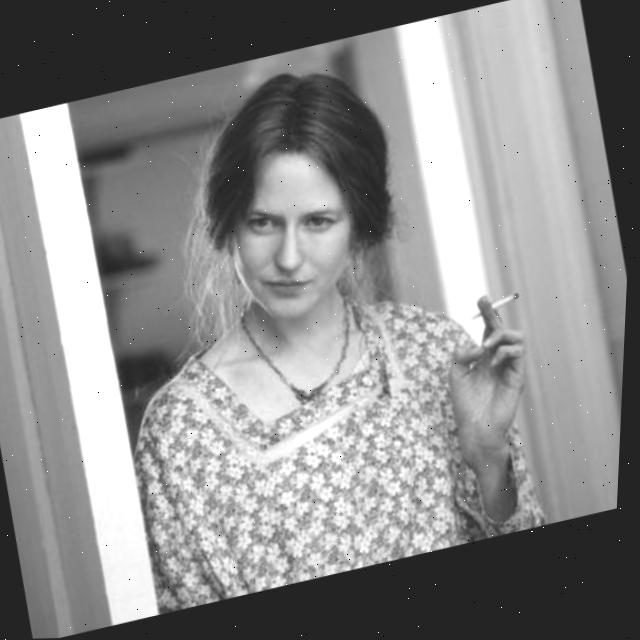face: (213, 141, 369, 330)
